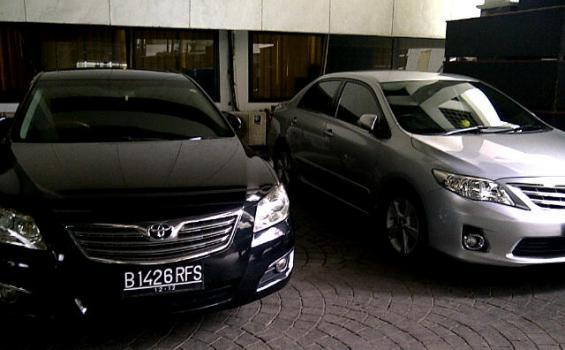plate: (121, 263, 207, 295)
